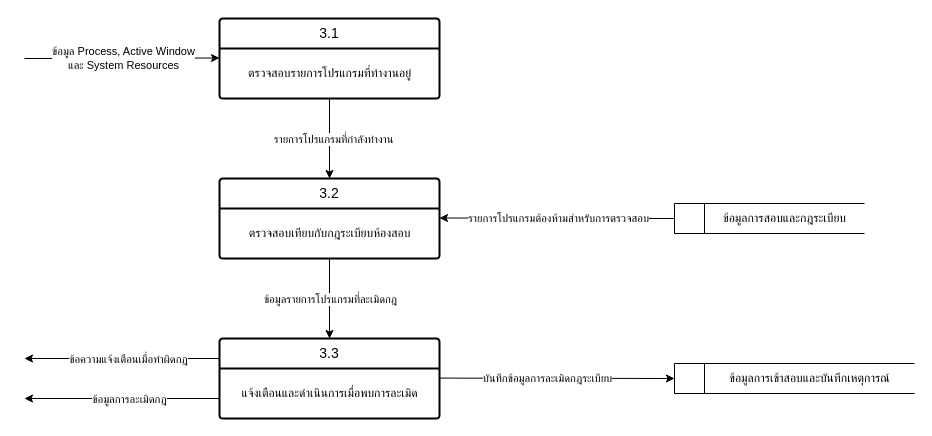
Image size: 932x436. Some labels were removed from this diagram. The box of each missing label's shape, as (x1, y1, x2, y2) in pixels:
D2: (674, 202, 864, 234)
D4: (674, 362, 914, 394)
